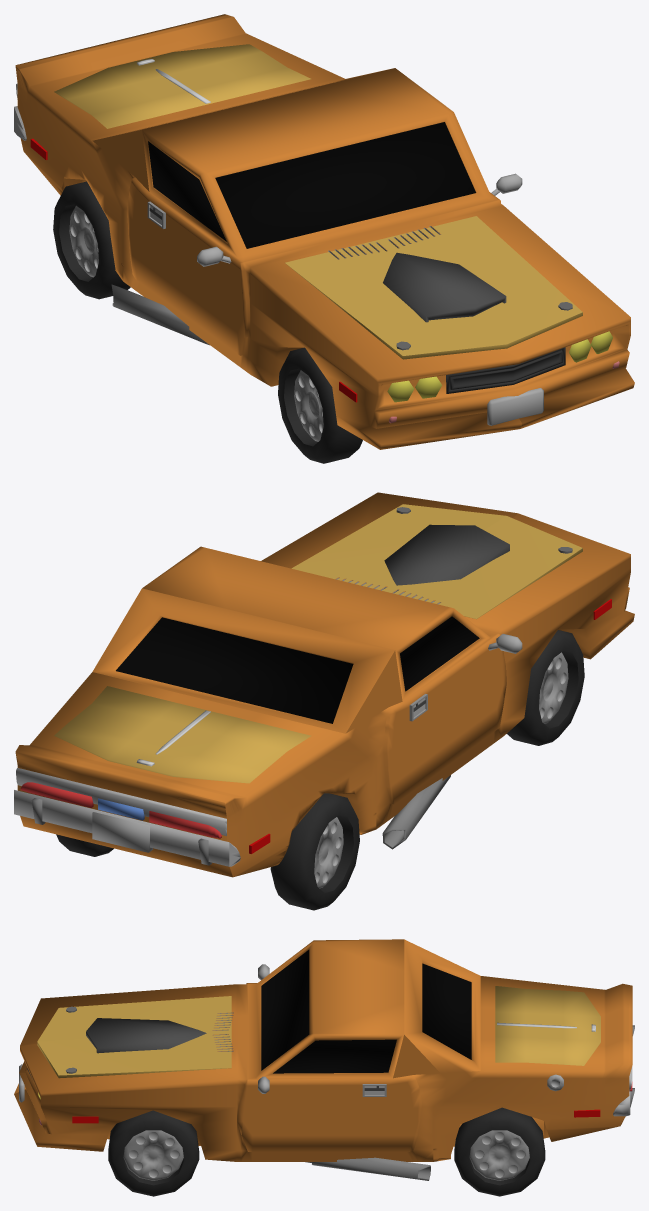
File: car1.obj
3 renders of one model, top to bottom at view 1: azimuth 30°, elevation 25°; view 2: azimuth 150°, elevation 25°; view 3: azimuth 270°, elevation 25°, orthographic. The views are drawn at different scales.
Visible parts, largest first — view 1: Cube.1_2, Cube.1, Cube.7_3, Cube.2_2, Cylinder_4, Cylinder_1, Cube_2, Cylinder.2_2, plate, Cylinder_3, Cylinder, Cylinder_2 (+4 smaller); view 2: Cube.1_2, Cube.7_3, Cube.1, Cylinder_1, Cube.2_2, Cube.3_2, Cylinder_4, Cube.5_2, Cube.5_3, Cube.6_2, Cylinder.2_2, Cylinder_3 (+3 smaller); view 3: Cube.1_2, Cube.1, Cube.7_3, Cylinder_1, Cylinder_4, Cube.2_2, Cylinder_3, Cylinder, Cylinder.2_2.
Boxes of the visible parts, bbox=[...] form: Cube.1_2: bbox=[15, 14, 634, 449]; Cube.1: bbox=[285, 216, 582, 359]; Cube.7_3: bbox=[54, 44, 310, 128]; Cube.2_2: bbox=[381, 246, 506, 322]; Cylinder_4: bbox=[278, 347, 362, 463]; Cylinder_1: bbox=[53, 181, 130, 299]; Cube_2: bbox=[446, 347, 565, 393]; Cylinder.2_2: bbox=[111, 284, 209, 345]; plate: bbox=[487, 388, 543, 425]; Cylinder_3: bbox=[294, 370, 323, 441]; Cylinder: bbox=[69, 205, 98, 277]; Cylinder_2: bbox=[59, 204, 93, 281]; Cube.1_2: bbox=[15, 492, 634, 877]; Cube.7_3: bbox=[54, 686, 311, 783]; Cube.1: bbox=[291, 504, 582, 619]; Cylinder_1: bbox=[56, 793, 359, 910]; Cube.2_2: bbox=[383, 524, 509, 592]; Cube.3_2: bbox=[14, 790, 240, 866]; Cylinder_4: bbox=[507, 630, 584, 745]; Cube.5_2: bbox=[16, 768, 226, 835]; Cube.5_3: bbox=[20, 782, 221, 838]; Cube.6_2: bbox=[92, 812, 153, 852]; Cylinder.2_2: bbox=[382, 775, 450, 849]; Cylinder_3: bbox=[539, 652, 568, 723]; Cube.1_2: bbox=[14, 939, 632, 1161]; Cube.1: bbox=[37, 996, 231, 1078]; Cube.7_3: bbox=[495, 986, 600, 1065]; Cylinder_1: bbox=[454, 1107, 545, 1196]; Cylinder_4: bbox=[108, 1110, 199, 1196]; Cube.2_2: bbox=[86, 1018, 206, 1053]; Cylinder_3: bbox=[123, 1130, 183, 1180]; Cylinder: bbox=[469, 1130, 529, 1180]; Cylinder.2_2: bbox=[305, 1157, 430, 1180].
Size of the model in its own units: 2.56 by 1.6 by 5.52.
